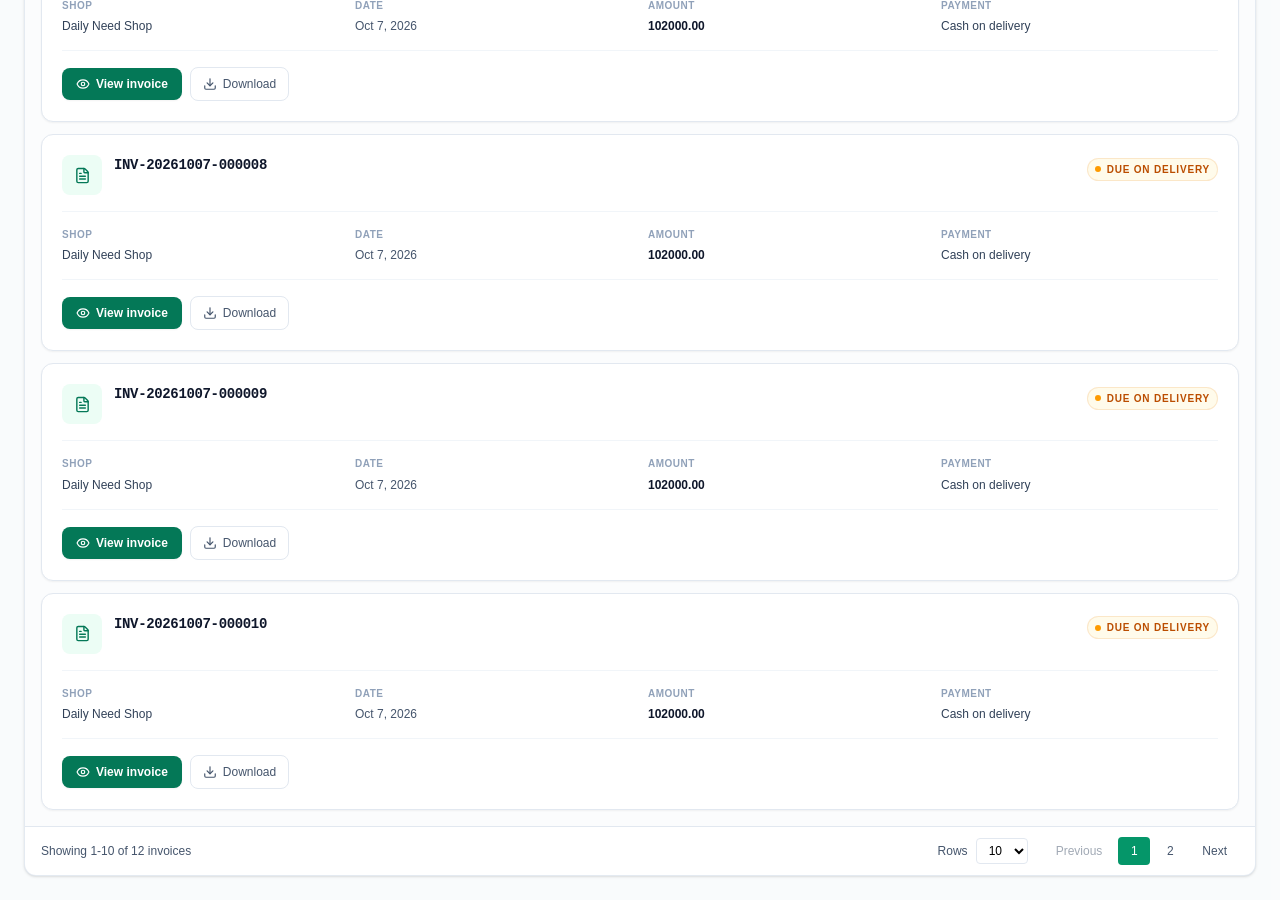
Scenario: CustomerInvoicesPage payment slip actions › paginates the invoice history
(page scrolled)
Check: the text "Showing 1-10 of 12 invoices" is shown, box [41,843,191,859]
Click the button "Next".
click(1215, 851)  # box [1190,837,1239,865]
(page scrolled)
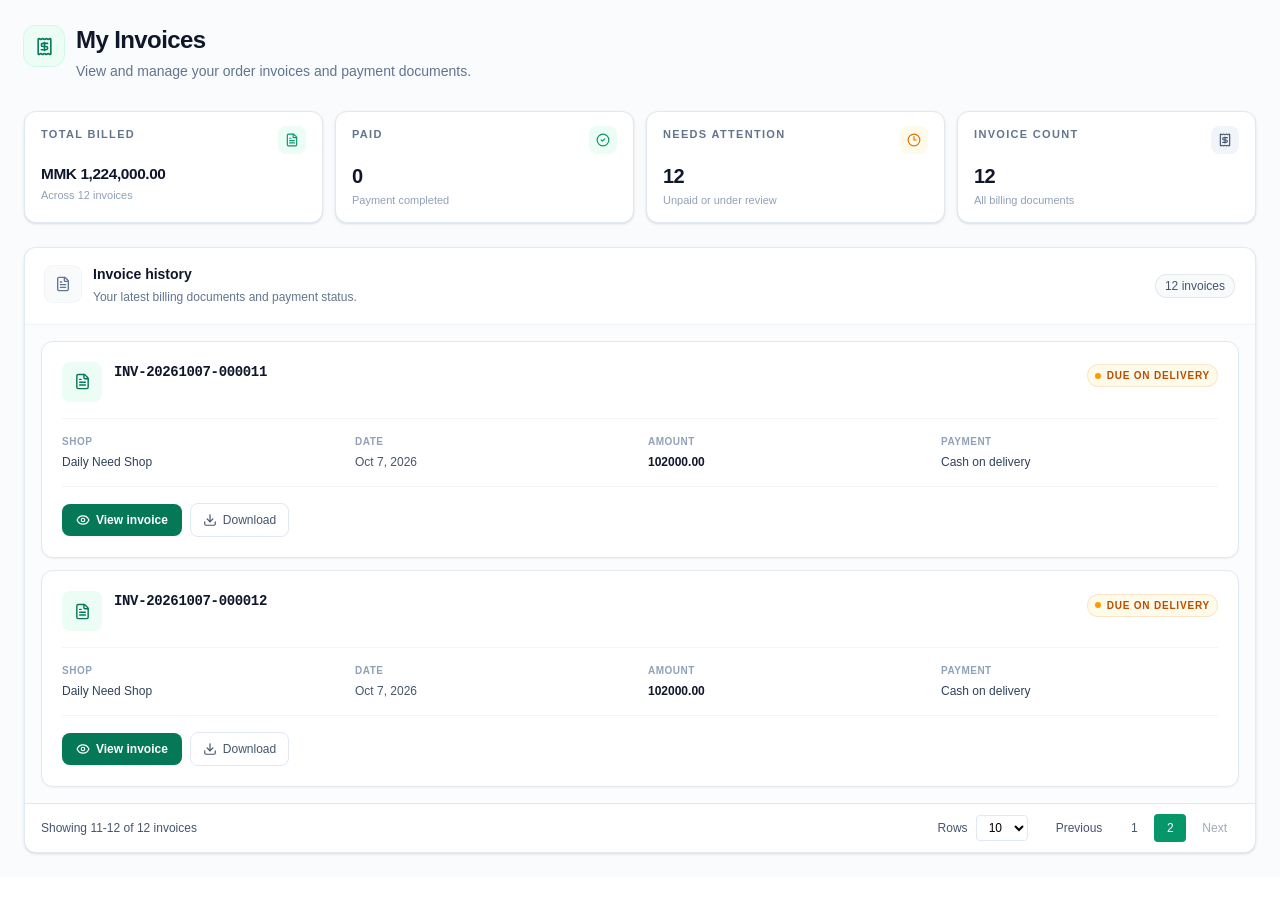
Check: the text "Showing 11-12 of 12 invoices" is shown, box [41,820,197,836]
